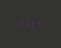five: (24, 19, 29, 27)
seven: (36, 20, 41, 28)
six: (30, 20, 35, 28)
zero: (18, 19, 23, 27)
